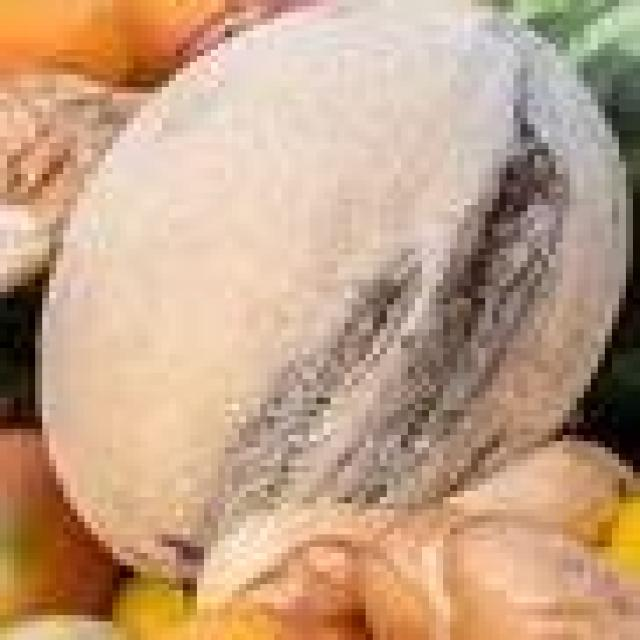food waste: (14, 0, 640, 624)
